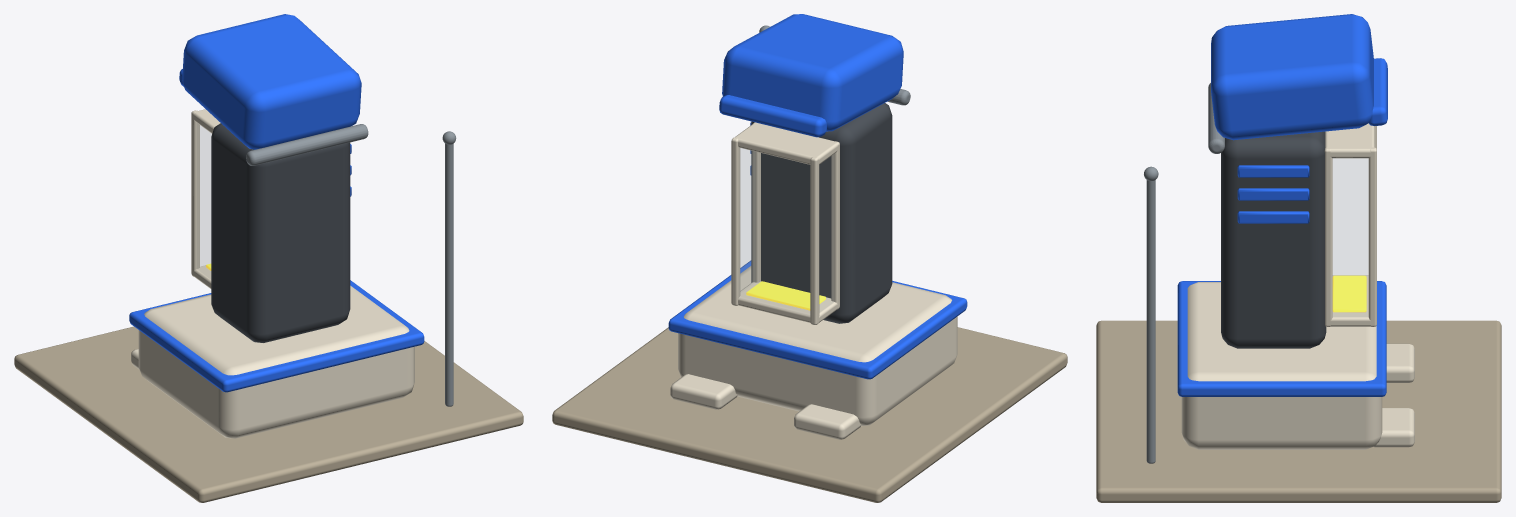
Rendered from barracks.glb.
The picture shows the model from 3 angles, left to right: view 1: azimuth 30°, elevation 25°; view 2: azimuth 150°, elevation 25°; view 3: azimuth 270°, elevation 25°; orthographic projection. The views are drawn at different scales.
Visible parts, largest first — view 1: stage_0__M_SugarPad, stage_2__M_SmokePlastic, stage_1__M_CreamPlastic, head__M_Team, stage_1__M_Team, stage_2__M_SpringSteel, stage_3__M_ClearGlass, head__M_SpringSteel, stage_3__M_CreamPlastic; view 2: stage_0__M_SugarPad, stage_1__M_CreamPlastic, stage_2__M_SmokePlastic, head__M_Team, stage_3__M_ClearGlass, stage_3__M_CreamPlastic, stage_1__M_Team, stage_2__M_CreamPlastic, oven__M_E_Amber; view 3: stage_0__M_SugarPad, stage_1__M_CreamPlastic, stage_2__M_SmokePlastic, head__M_Team, stage_3__M_ClearGlass, stage_1__M_Team, stage_3__M_CreamPlastic, stage_3__M_Team, stage_2__M_SpringSteel, oven__M_E_Amber, stage_2__M_CreamPlastic, head__M_SpringSteel.
Boxes of the visible parts, x1=… form: stage_0__M_SugarPad: x1=14, y1=326, x2=523, y2=502; stage_2__M_SmokePlastic: x1=211, y1=123, x2=350, y2=342; stage_1__M_CreamPlastic: x1=131, y1=285, x2=414, y2=438; head__M_Team: x1=179, y1=14, x2=361, y2=149; stage_1__M_Team: x1=129, y1=280, x2=424, y2=392; stage_2__M_SpringSteel: x1=445, y1=143, x2=453, y2=406; stage_3__M_ClearGlass: x1=197, y1=124, x2=211, y2=278; head__M_SpringSteel: x1=246, y1=124, x2=368, y2=165; stage_3__M_CreamPlastic: x1=191, y1=109, x2=220, y2=276; stage_0__M_SugarPad: x1=552, y1=327, x2=1067, y2=502; stage_1__M_CreamPlastic: x1=670, y1=266, x2=957, y2=439; stage_2__M_SmokePlastic: x1=751, y1=103, x2=892, y2=323; head__M_Team: x1=719, y1=14, x2=903, y2=137; stage_3__M_ClearGlass: x1=739, y1=148, x2=833, y2=314; stage_3__M_CreamPlastic: x1=731, y1=122, x2=839, y2=324; stage_1__M_Team: x1=668, y1=260, x2=967, y2=379; stage_2__M_CreamPlastic: x1=738, y1=281, x2=838, y2=322; oven__M_E_Amber: x1=746, y1=281, x2=825, y2=310; stage_0__M_SugarPad: x1=1096, y1=320, x2=1501, y2=502; stage_1__M_CreamPlastic: x1=1181, y1=282, x2=1414, y2=449; stage_2__M_SmokePlastic: x1=1221, y1=131, x2=1326, y2=348; head__M_Team: x1=1211, y1=14, x2=1387, y2=140; stage_3__M_ClearGlass: x1=1333, y1=158, x2=1368, y2=316; stage_1__M_Team: x1=1177, y1=281, x2=1386, y2=396; stage_3__M_CreamPlastic: x1=1324, y1=123, x2=1376, y2=326; stage_3__M_Team: x1=1237, y1=165, x2=1309, y2=223; stage_2__M_SpringSteel: x1=1146, y1=180, x2=1155, y2=463; oven__M_E_Amber: x1=1332, y1=275, x2=1366, y2=312; stage_2__M_CreamPlastic: x1=1330, y1=275, x2=1371, y2=326; head__M_SpringSteel: x1=1208, y1=83, x2=1224, y2=153.
Size of the model in its own units: 1.92 by 1.99 by 1.92.
